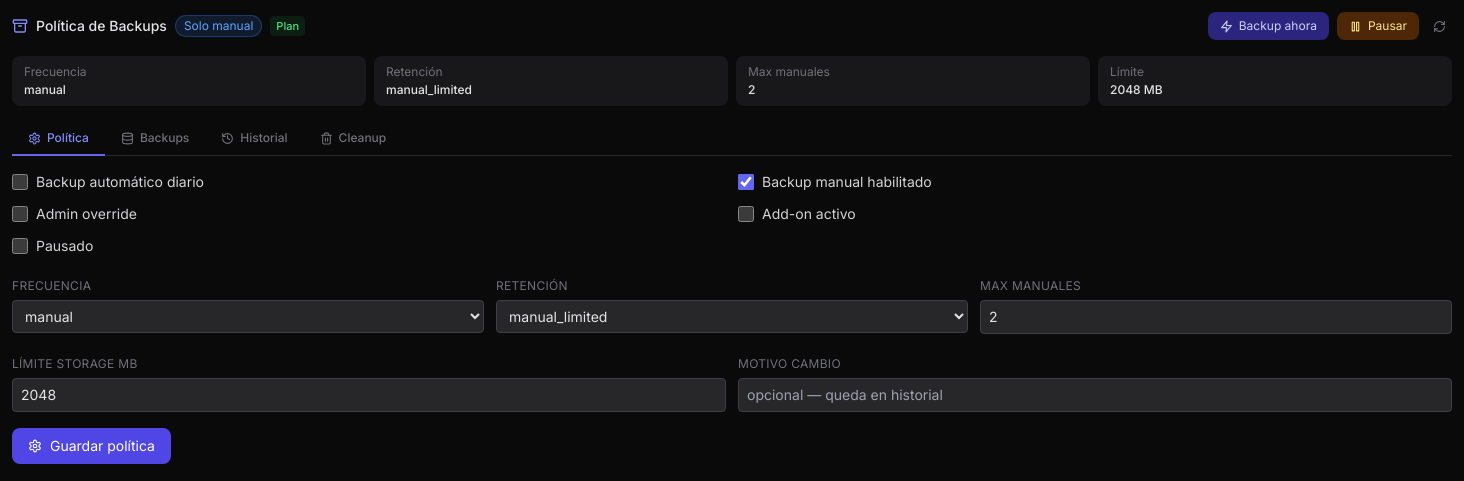
BackupPolicyPanel › 9 — Cleanup tab shows dry-run checkbox checked by default
This screenshot has width=1464, height=481.
Click the button "Cleanup": (353, 139) top-left (304, 122), bottom-right (402, 156)
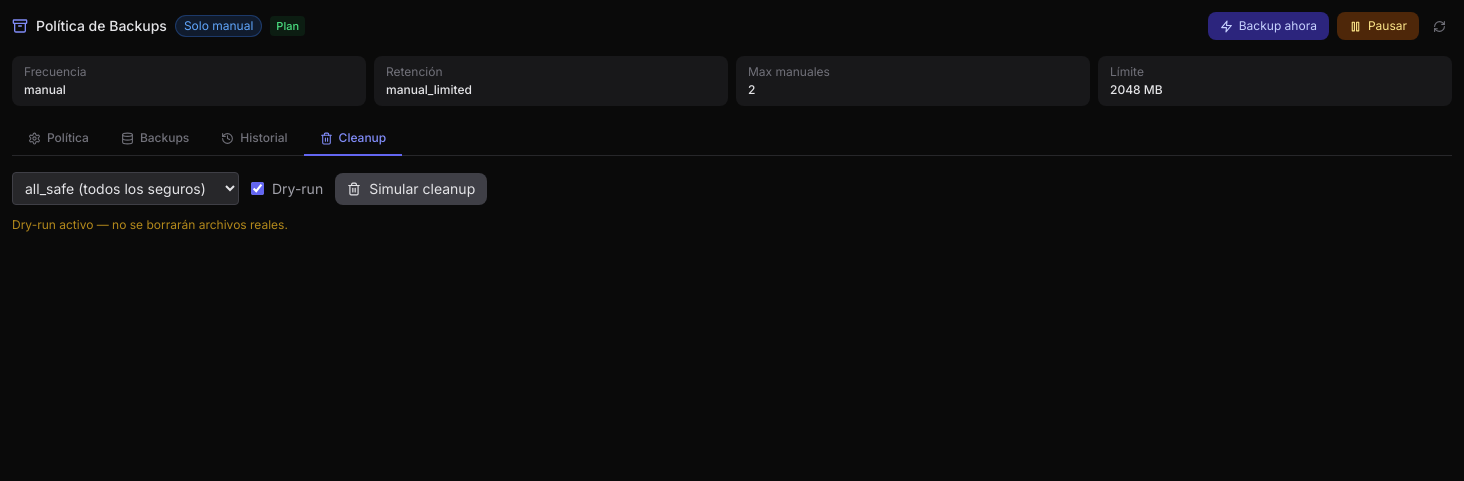
Expected: the checkbox labelled "Dry-run" is checked, top-left (251, 182), bottom-right (264, 195)
